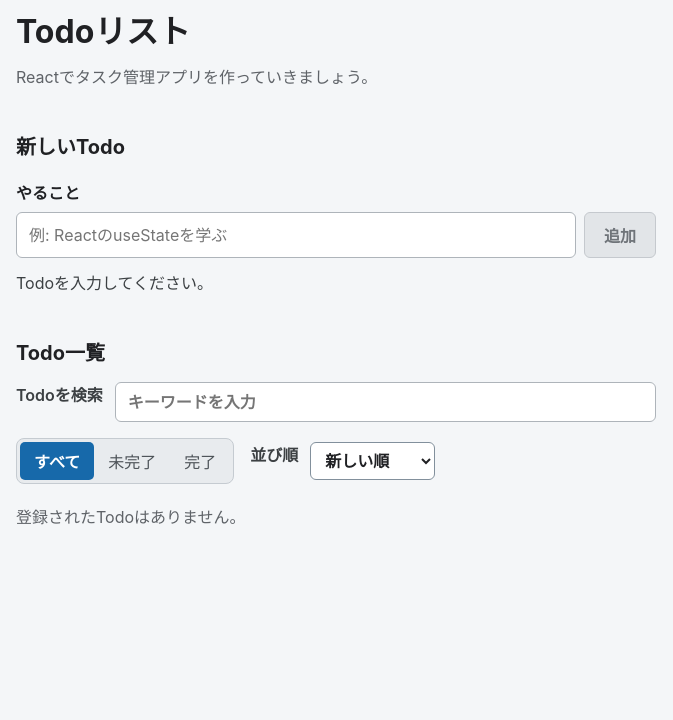
Test: Home › todoを追加したら成功メッセージを表示する
Type "Reactを復習する" into the field labelled "やること". click: (296, 235)
box: x1=16 y1=212 x2=576 y2=258
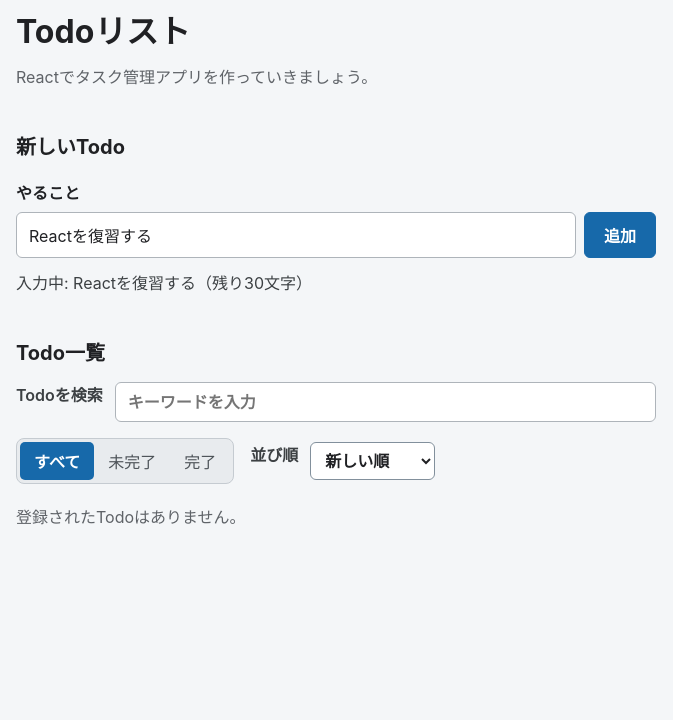
Click the button "追加". click: click(620, 235)
box: x1=584 y1=212 x2=656 y2=258
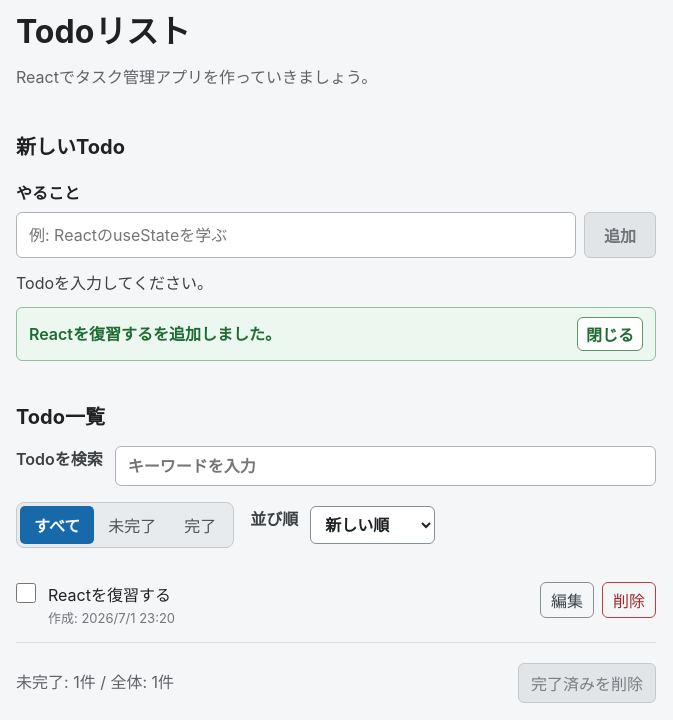
Expected: the message shows "Reactを復習するを追加しました。", x1=29 y1=324 x2=281 y2=344
Expected: the field labelled "やること" is empty, x1=16 y1=212 x2=576 y2=258
